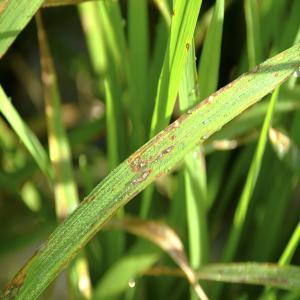Rice_Blast: (129, 163, 161, 192), (159, 143, 185, 165), (126, 150, 145, 173)
